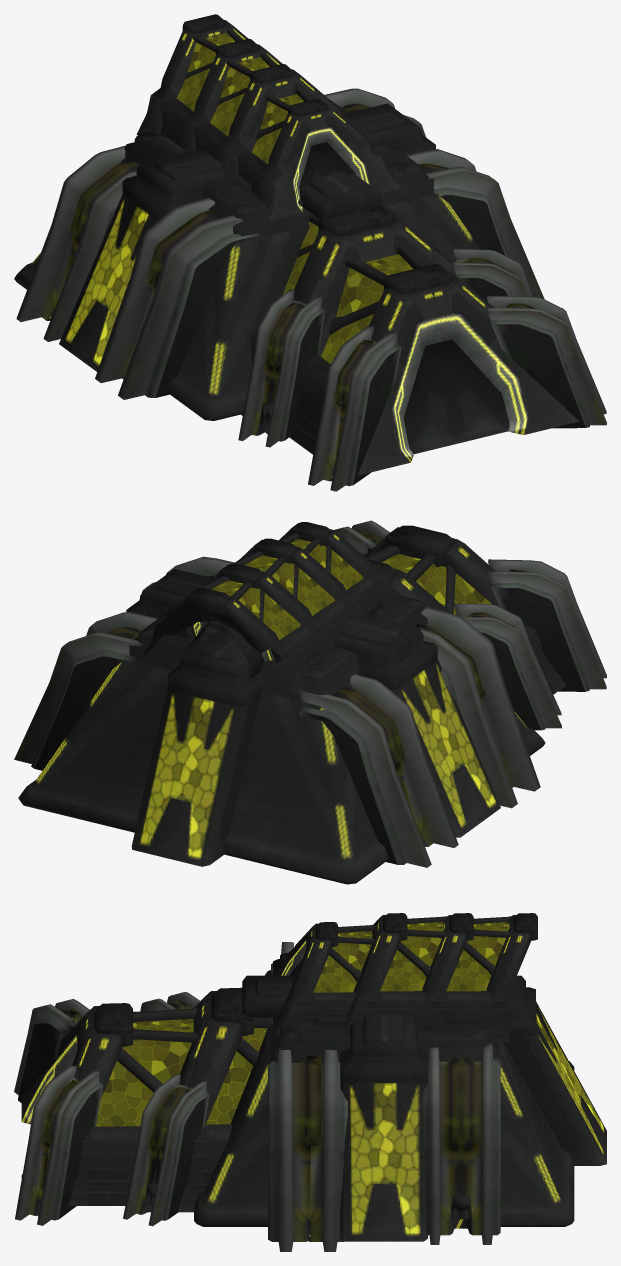
File: Viper_TempleofViper_V3.glb
3 renders of one model, top to bottom at view 1: azimuth 30°, elevation 25°; view 2: azimuth 150°, elevation 25°; view 3: azimuth 270°, elevation 25°, orthographic. The views are drawn at different scales.
Visible parts, largest first — view 1: Bldg_Terran_ShadowOps_Main, Bldg_Terran_ShadowOps_Main.001; view 2: Bldg_Terran_ShadowOps_Main, Bldg_Terran_ShadowOps_Main.001; view 3: Bldg_Terran_ShadowOps_Main, Bldg_Terran_ShadowOps_Main.001.
Part boxes in pixels (bbox=[...]): Bldg_Terran_ShadowOps_Main: bbox=[14, 14, 606, 491]; Bldg_Terran_ShadowOps_Main.001: bbox=[176, 33, 412, 363]; Bldg_Terran_ShadowOps_Main: bbox=[14, 520, 606, 884]; Bldg_Terran_ShadowOps_Main.001: bbox=[211, 539, 492, 640]; Bldg_Terran_ShadowOps_Main: bbox=[14, 913, 606, 1251]; Bldg_Terran_ShadowOps_Main.001: bbox=[96, 922, 507, 1126].
Bounding box in the file's own units: 4.01 × 2.21 × 5.06.
Materials: 2 (2 with a texture image).
